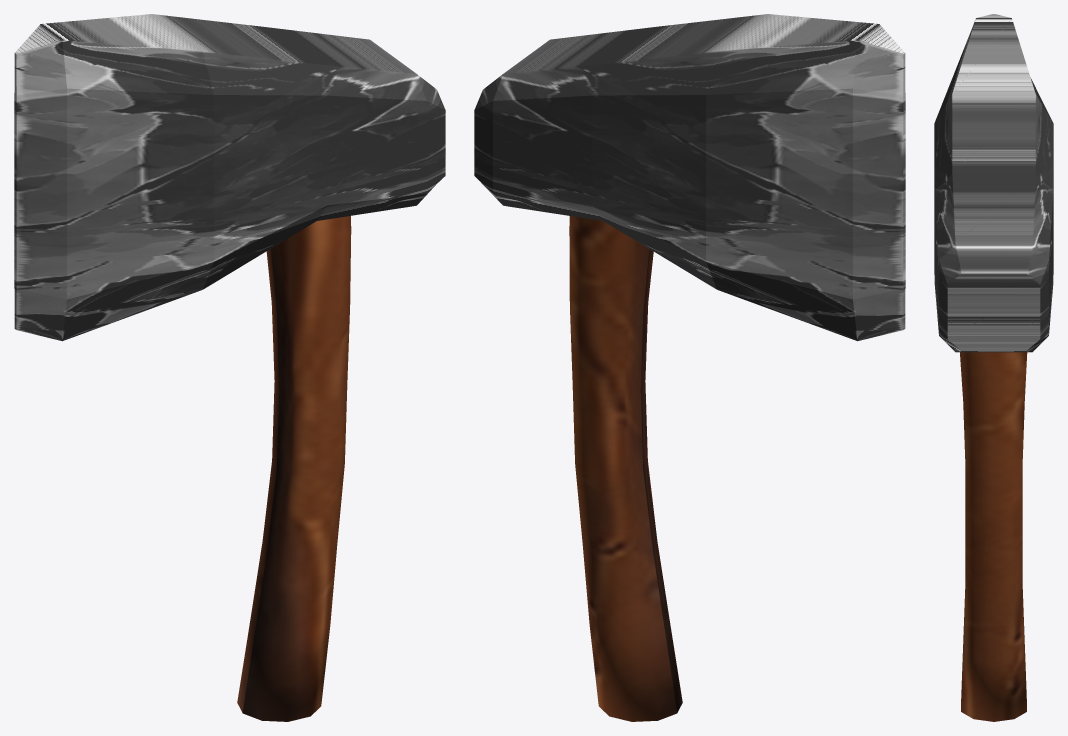
The model's file is machado-v6.glb.
The picture shows the model from 3 angles, left to right: view 1: azimuth 30°, elevation 25°; view 2: azimuth 150°, elevation 25°; view 3: azimuth 270°, elevation 25°; orthographic projection. The views are drawn at different scales.
Visible parts, largest first — view 1: AxeBlade, RecoveredHandle; view 2: AxeBlade, RecoveredHandle; view 3: AxeBlade, RecoveredHandle.
Boxes of the visible parts, <box> form: AxeBlade: <box>14,14,445,341</box>; RecoveredHandle: <box>237,216,351,721</box>; AxeBlade: <box>474,14,905,341</box>; RecoveredHandle: <box>569,216,682,721</box>; AxeBlade: <box>934,14,1053,352</box>; RecoveredHandle: <box>960,352,1027,721</box>.
Bounding box in the file's own units: 0.9014 × 1.56 × 0.2825.
2 materials, 2 textured.
